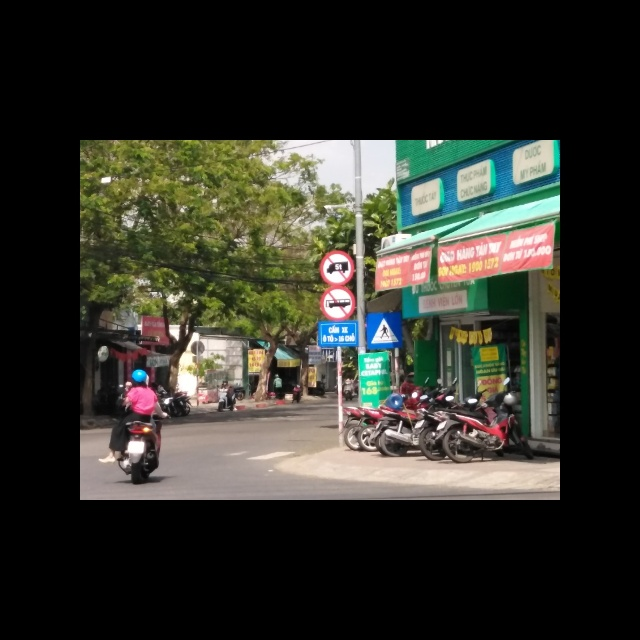Cấm xe tải: (318, 250, 355, 287)
Cấm xe xe khách: (319, 287, 356, 323)
Đường dành cho người đi bộ: (365, 311, 402, 348)
